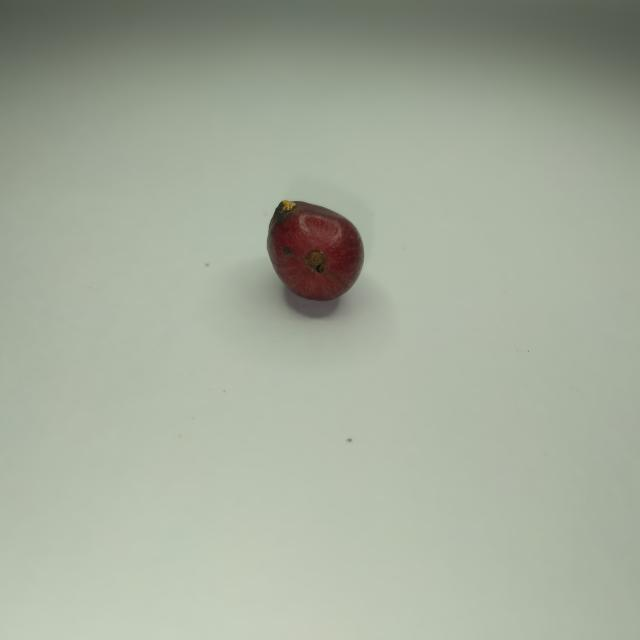Infectado: (267, 200, 363, 300)
